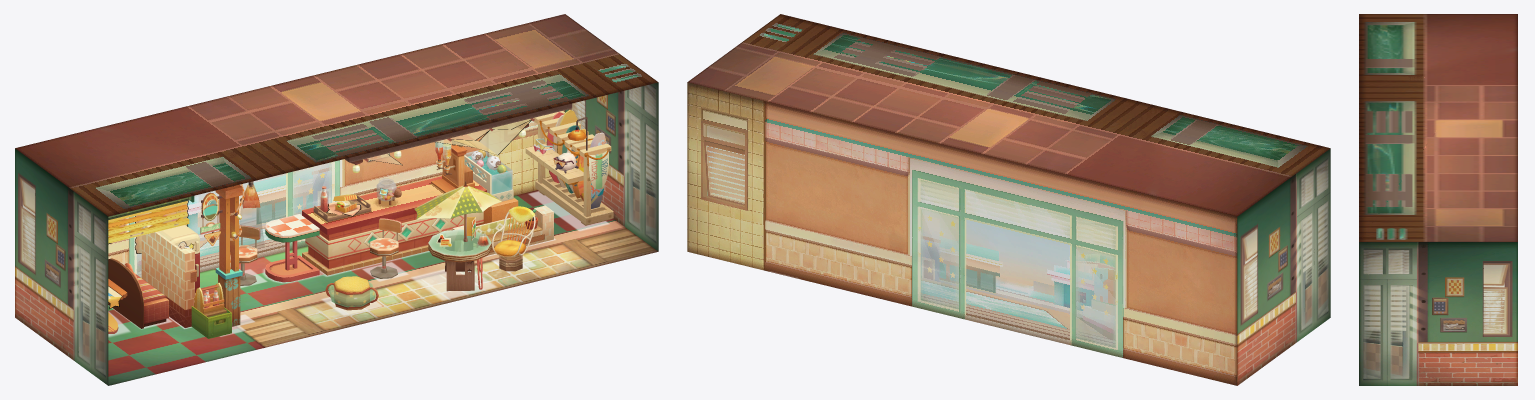
File: coastCottage.glb
The picture shows the model from 3 angles, left to right: view 1: azimuth 30°, elevation 25°; view 2: azimuth 150°, elevation 25°; view 3: azimuth 270°, elevation 25°; orthographic projection. The views are drawn at different scales.
Visible parts, largest first — view 1: ROOM_room, ROOM_floor, furni_coastCottage_bartable_01, furni_coastCottage_surfboard_01, furni_coastCottage_shopsign_01, furni_coastCottage_tallcutoff_01, furni_coastCottage_outsidetable_01, furni_coastCottage_twinbench_01.001, furni_coastCottage_singletable_01, furni_coastCottage_curtain_01, furni_coastCottage_shortcutoff_01, furni_coastCottage_ballpool_01 (+16 smaller); view 2: ROOM_room, ROOM_LDoor; view 3: ROOM_room, ROOM_RDoor.
Boxes of the visible parts, left/top/right/bottom form: ROOM_room: left=15, top=14, right=658, bottom=385; ROOM_floor: left=108, top=190, right=658, bottom=385; furni_coastCottage_bartable_01: left=302, top=139, right=486, bottom=275; furni_coastCottage_surfboard_01: left=525, top=109, right=613, bottom=225; furni_coastCottage_shopsign_01: left=191, top=150, right=254, bottom=338; furni_coastCottage_tallcutoff_01: left=141, top=225, right=196, bottom=327; furni_coastCottage_outsidetable_01: left=414, top=181, right=501, bottom=291; furni_coastCottage_twinbench_01.001: left=108, top=258, right=168, bottom=328; furni_coastCottage_singletable_01: left=265, top=214, right=319, bottom=282; furni_coastCottage_curtain_01: left=108, top=196, right=191, bottom=243; furni_coastCottage_shortcutoff_01: left=452, top=205, right=553, bottom=255; furni_coastCottage_ballpool_01: left=464, top=149, right=518, bottom=224; ROOM_room: left=687, top=14, right=1330, bottom=385; ROOM_LDoor: left=1298, top=251, right=1316, bottom=341; ROOM_room: left=1359, top=14, right=1517, bottom=385; ROOM_RDoor: left=1382, top=320, right=1414, bottom=385.
Size of the model in its own units: 7.5 by 2.2 by 2.24.
7 materials, 7 textured.
